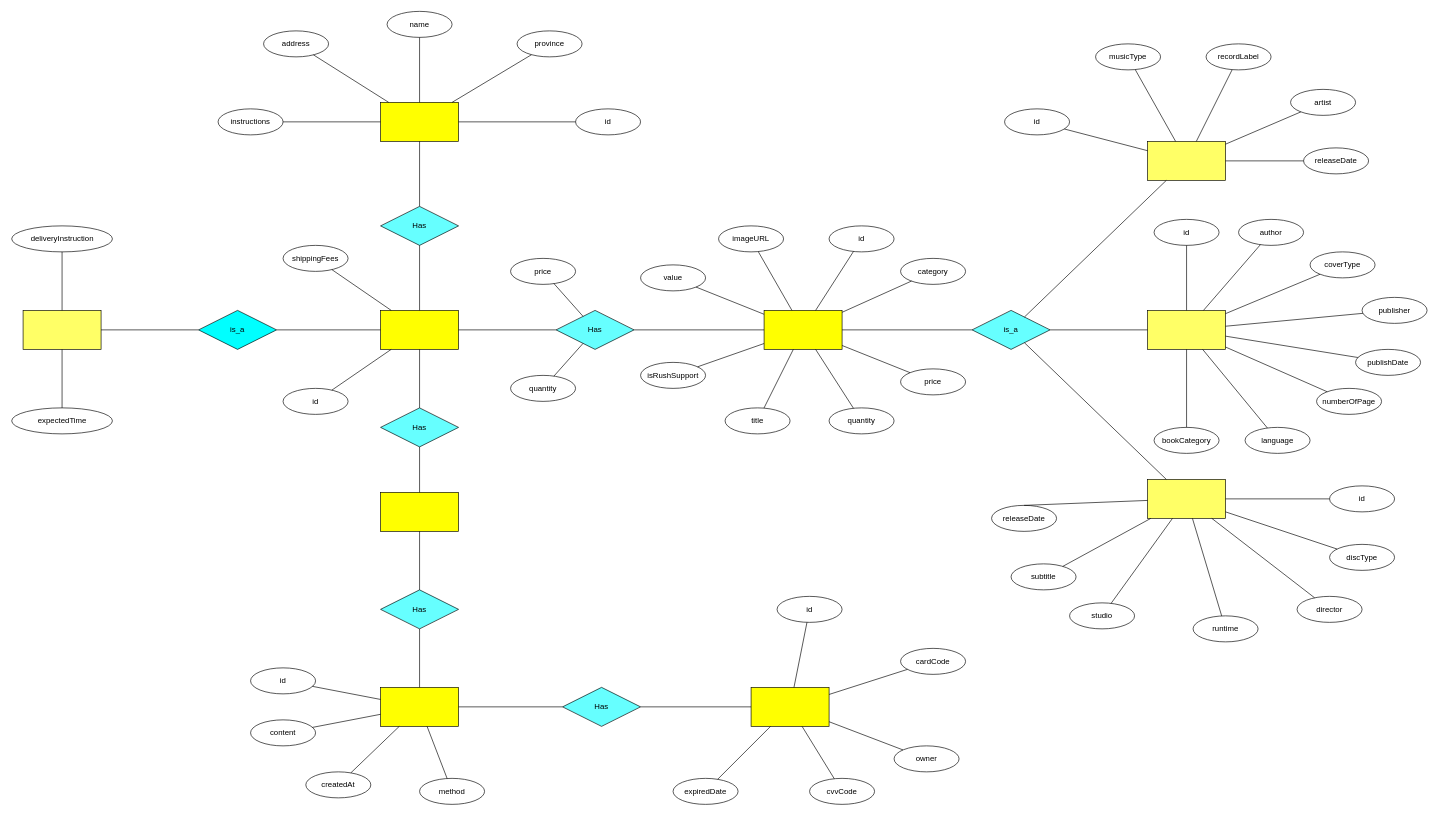
Some shapes in this 1438 by 816 pixel diagram are drawn without their labels. The shapes that lost their labels are listed below. From the top down, each one's box as (x1, y1, x2, y2) in pixels, then its label:
(380, 102, 459, 141): DeliveryInfo
(1147, 141, 1226, 180): CD
(22, 310, 101, 349): RushOrder
(380, 310, 459, 349): Order
(763, 310, 842, 349): Media
(1147, 310, 1226, 349): Book
(380, 492, 459, 531): Invoice
(1147, 479, 1226, 518): DVD
(380, 687, 459, 726): PaymentTransation
(750, 687, 829, 726): Card
